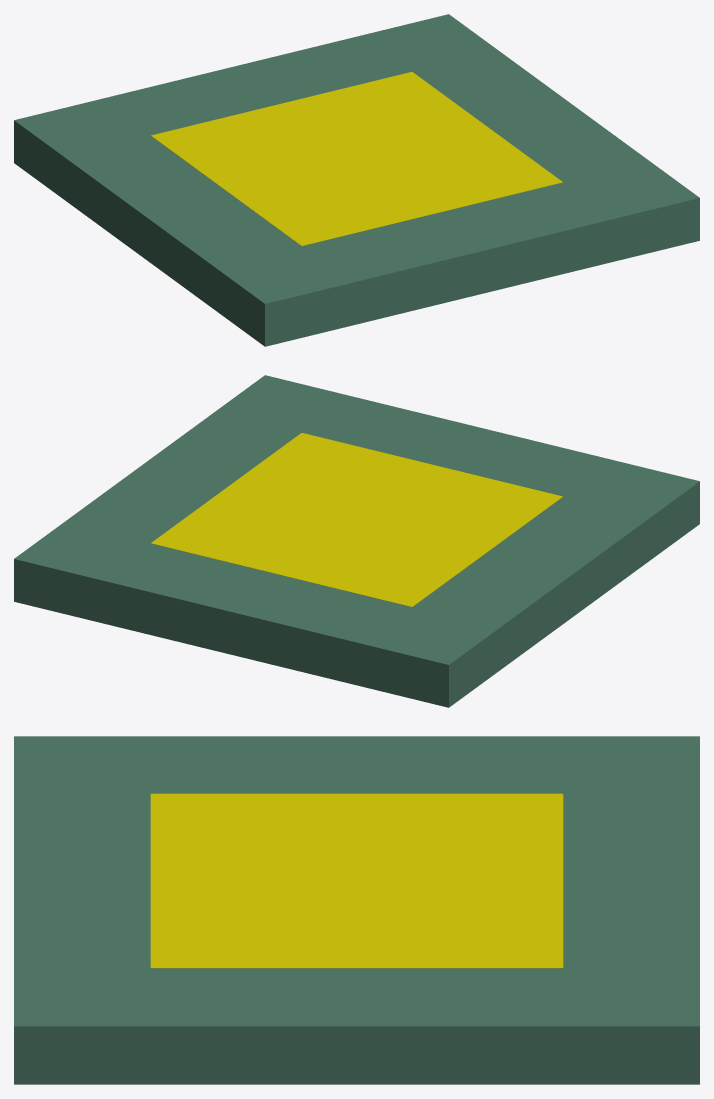
The model's file is slab_C.glb.
3 renders of one model, top to bottom at view 1: azimuth 30°, elevation 25°; view 2: azimuth 150°, elevation 25°; view 3: azimuth 270°, elevation 25°, orthographic. The views are drawn at different scales.
Parts seen in each view (by area): view 1: =>[0:1:1:3], =>[0:1:1:2]; view 2: =>[0:1:1:3], =>[0:1:1:2]; view 3: =>[0:1:1:3], =>[0:1:1:2].
Part boxes in pixels (bbox=[...]): =>[0:1:1:3]: bbox=[14, 14, 699, 346]; =>[0:1:1:2]: bbox=[151, 72, 562, 245]; =>[0:1:1:3]: bbox=[14, 375, 699, 707]; =>[0:1:1:2]: bbox=[151, 433, 562, 606]; =>[0:1:1:3]: bbox=[14, 736, 699, 1084]; =>[0:1:1:2]: bbox=[150, 793, 563, 968].
Bounding box in the file's own units: 0.08 × 0.00757 × 0.08.
